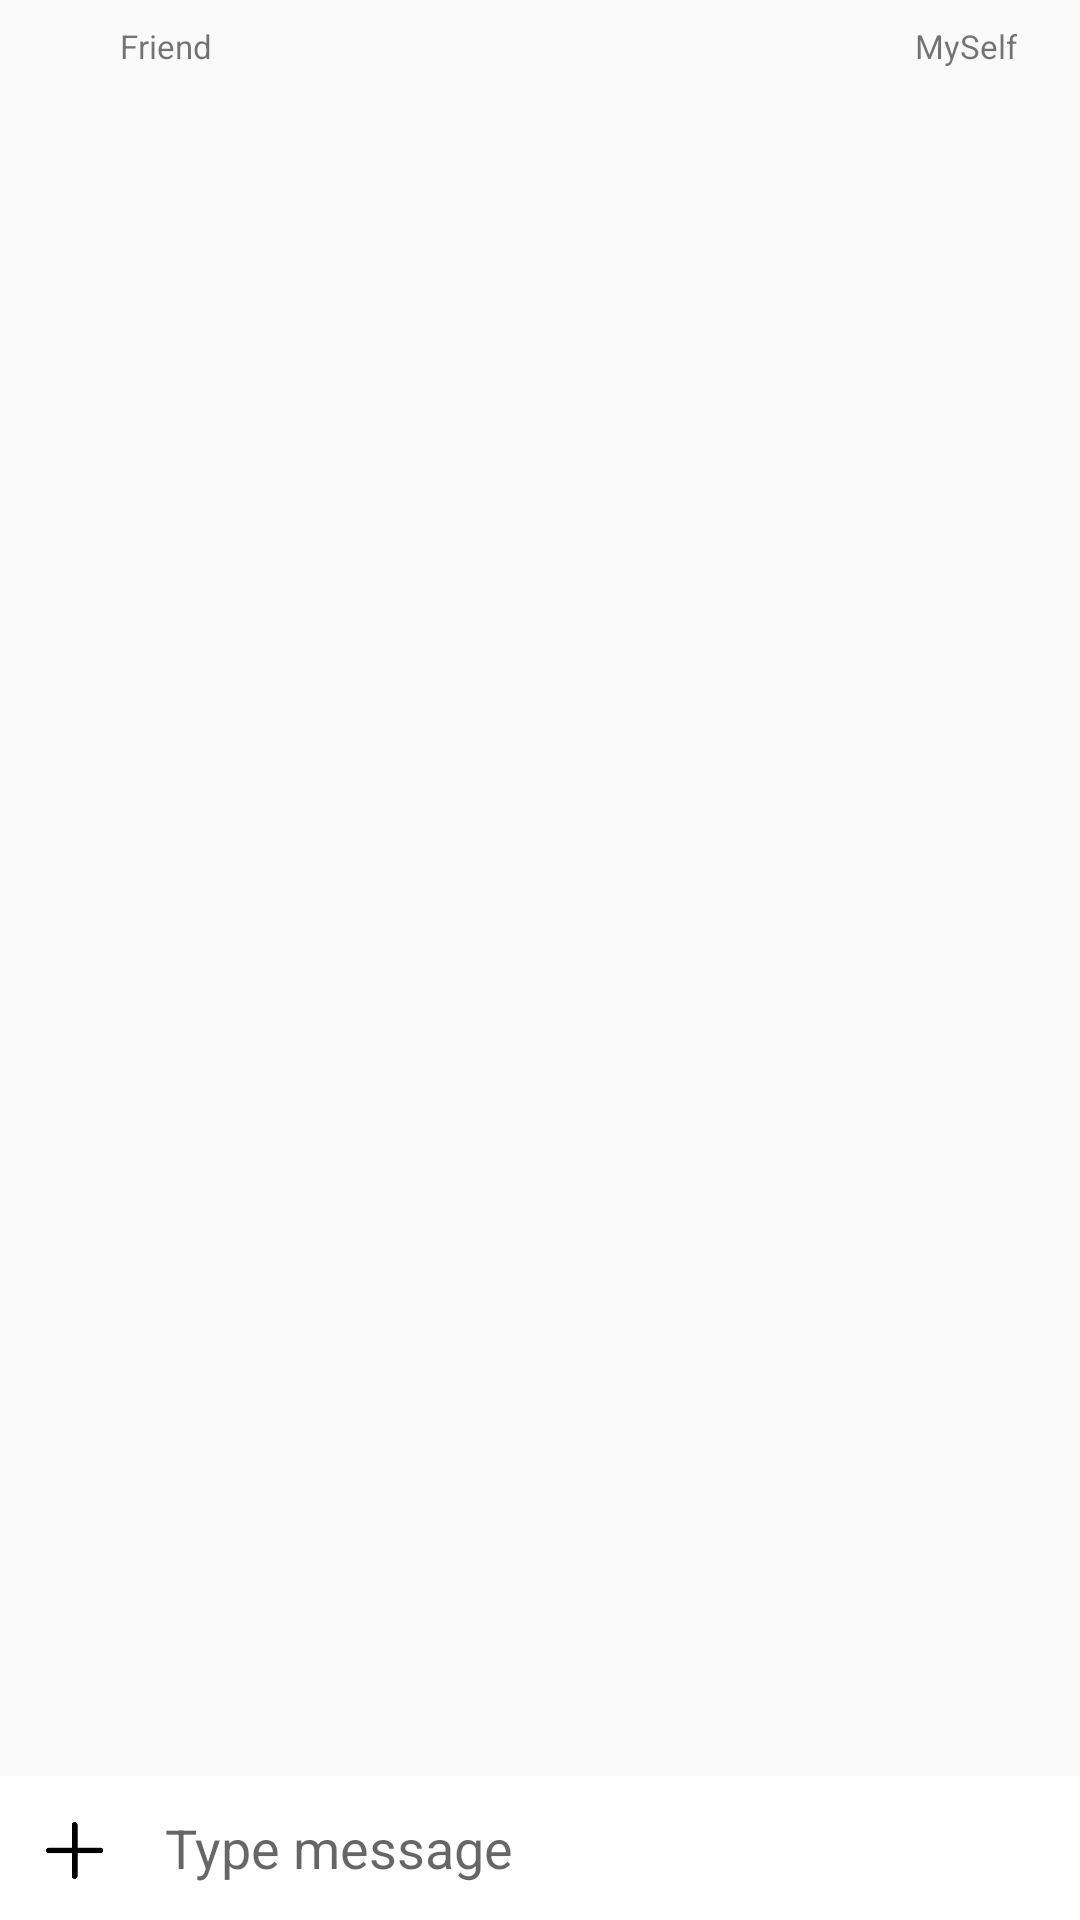

Named icons in this screenshot (1080 x 1920) and their centers, (x,y):
plus: (74,1850)
